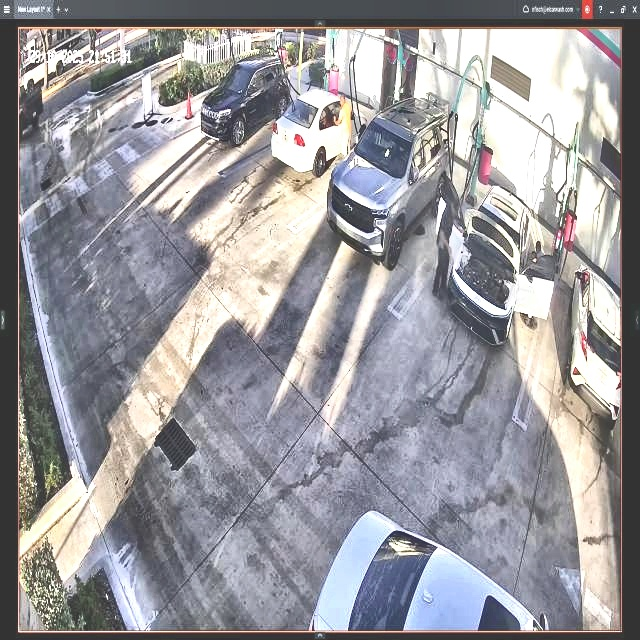Car: (329, 100, 454, 265), (447, 180, 542, 345), (201, 51, 292, 150), (272, 87, 368, 171)
